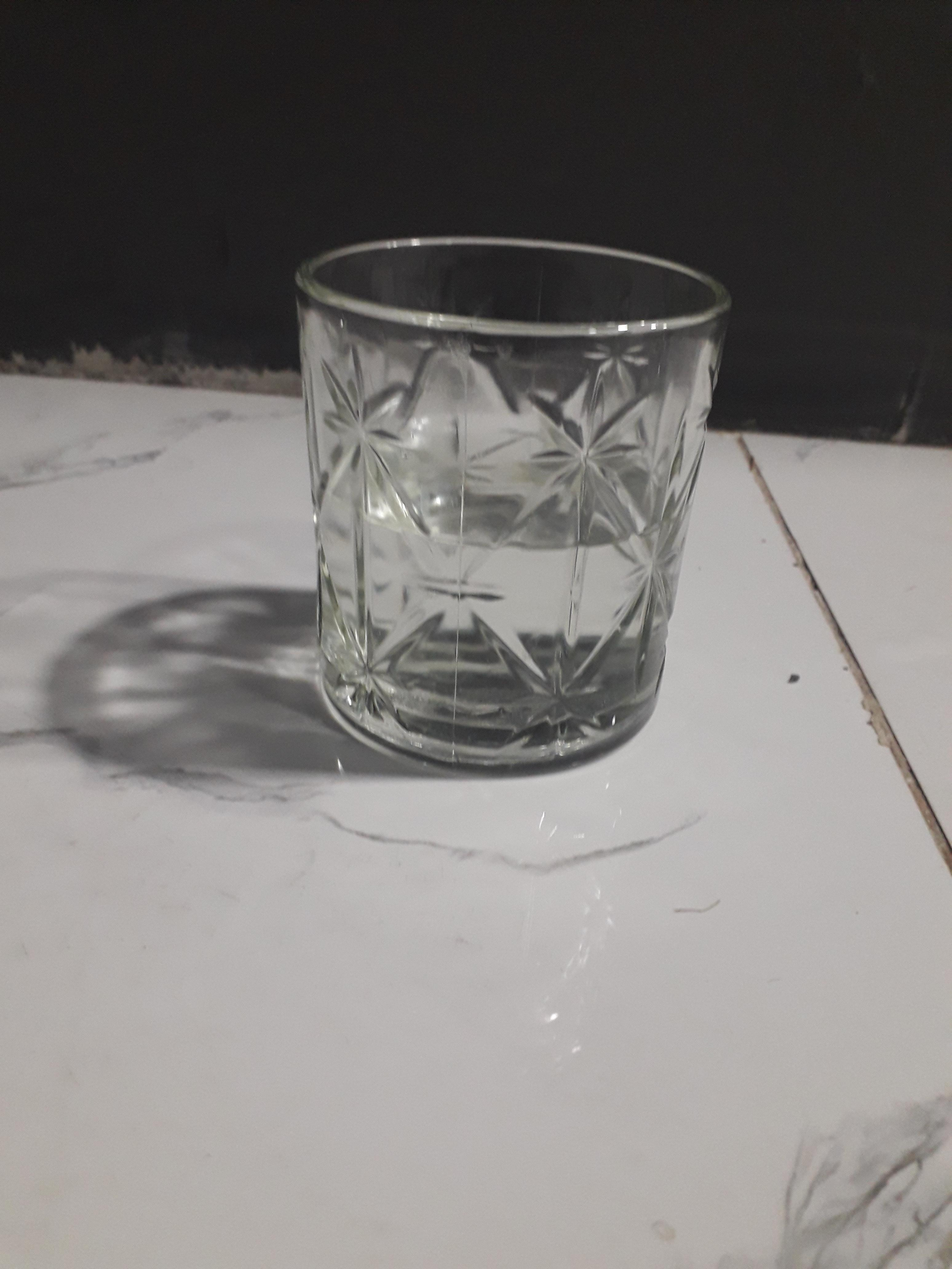glass-normal: (287, 227, 724, 789)
